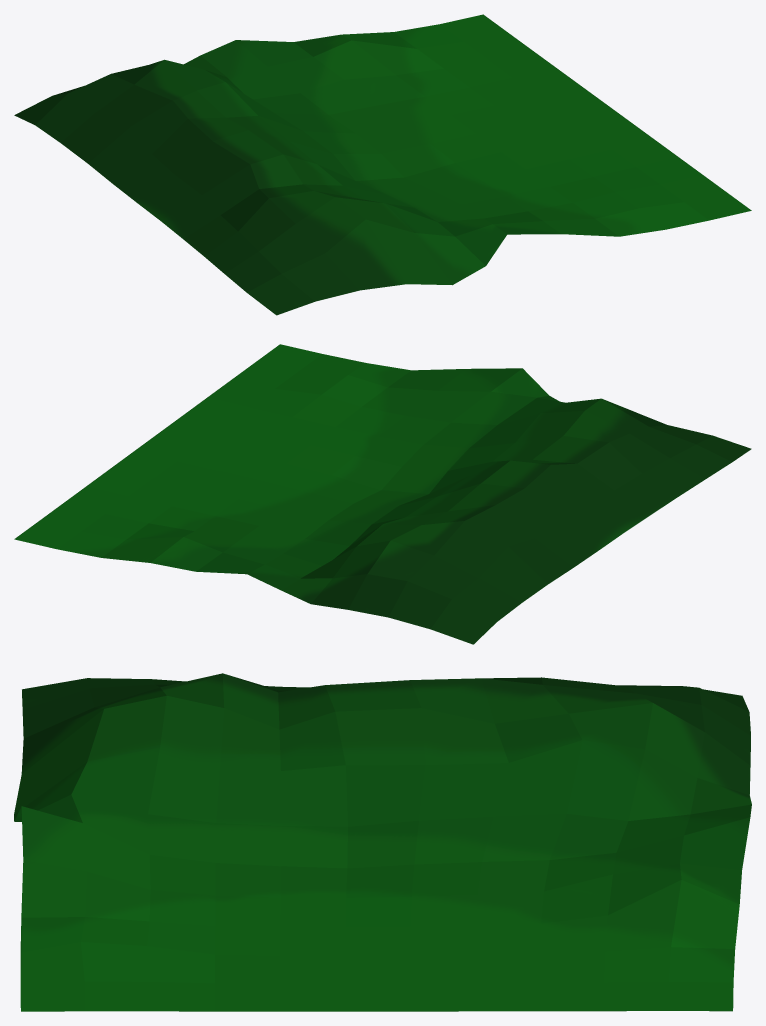
Rendered from ground.fbx.
3 renders of one model, top to bottom at view 1: azimuth 30°, elevation 25°; view 2: azimuth 150°, elevation 25°; view 3: azimuth 270°, elevation 25°, orthographic. The views are drawn at different scales.
Parts seen in each view (by area): view 1: Plane.001; view 2: Plane.001; view 3: Plane.001.
Part boxes in pixels (bbox=[...]): Plane.001: bbox=[14, 14, 751, 315]; Plane.001: bbox=[14, 344, 751, 644]; Plane.001: bbox=[14, 673, 751, 1011].
Bounding box in the file's own units: 5656 × 719 × 5669.
Materials: 1 (1 with a texture image).
